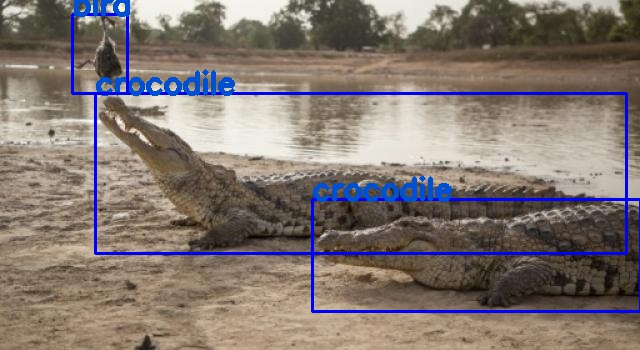bird: (72, 14, 127, 92)
crocodile: (94, 93, 626, 253), (312, 198, 640, 310)
